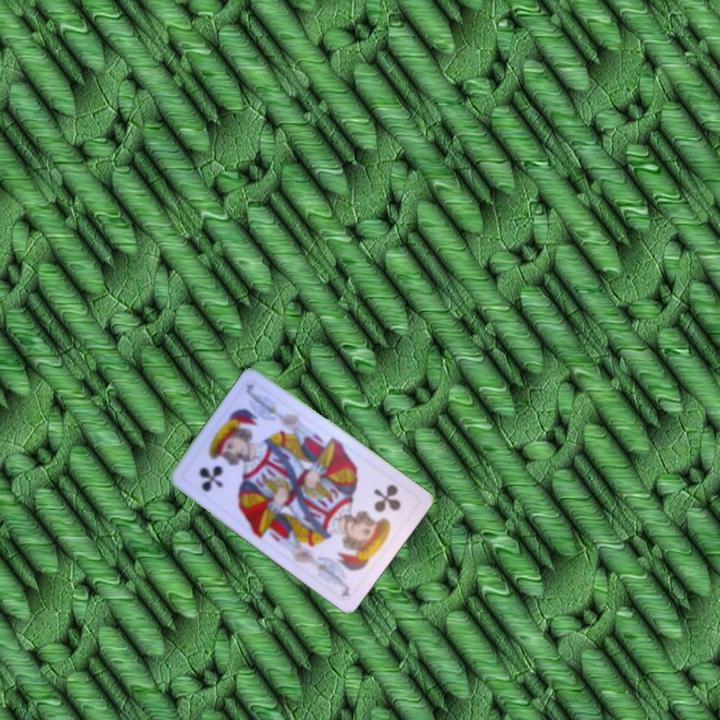c_j.png: (178, 425, 262, 511), (338, 467, 422, 553)
